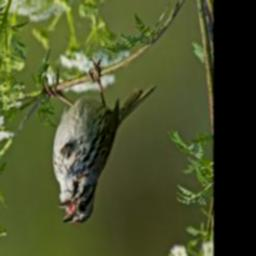Sparrow: (40, 56, 157, 227)
